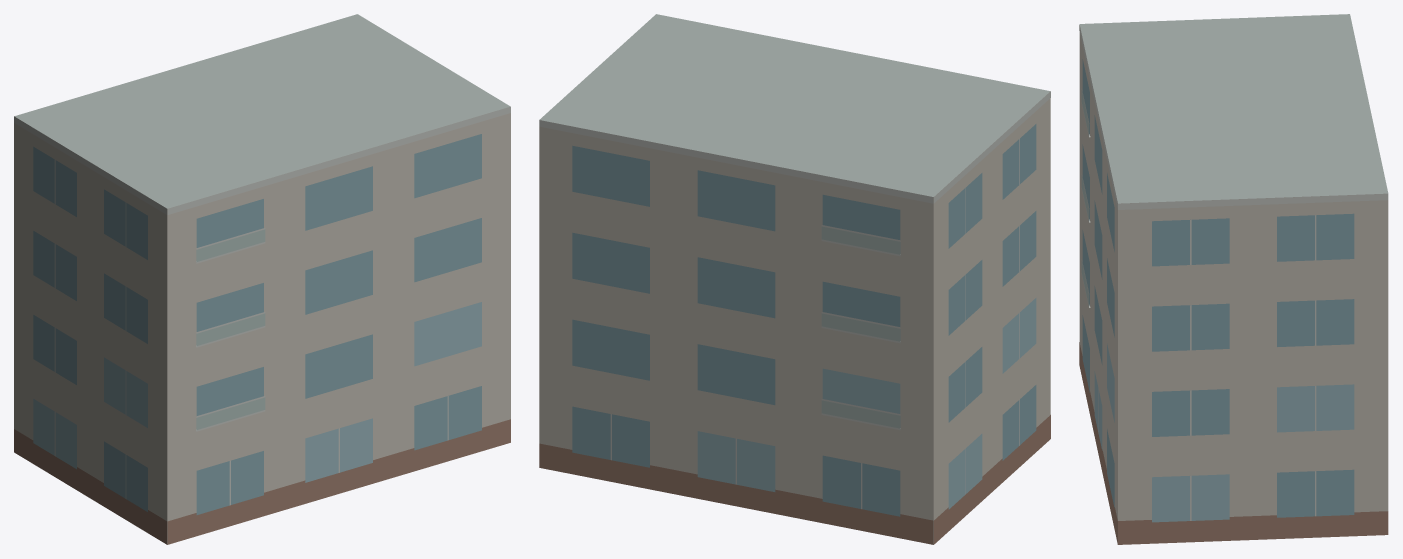
File: survey-upis-32616128.glb
The picture shows the model from 3 angles, left to right: view 1: azimuth 30°, elevation 25°; view 2: azimuth 150°, elevation 25°; view 3: azimuth 270°, elevation 25°; orthographic projection. The views are drawn at different scales.
Parts seen in each view (by area): view 1: survey-upis-32616128.tmp; view 2: survey-upis-32616128.tmp; view 3: survey-upis-32616128.tmp.
Boxes of the visible parts, x1,y1,x2,y2 form: survey-upis-32616128.tmp: [14, 14, 510, 544]; survey-upis-32616128.tmp: [539, 14, 1050, 544]; survey-upis-32616128.tmp: [1079, 14, 1388, 544].
Bounding box in the file's own units: 15.26 × 12.8 × 10.51.
